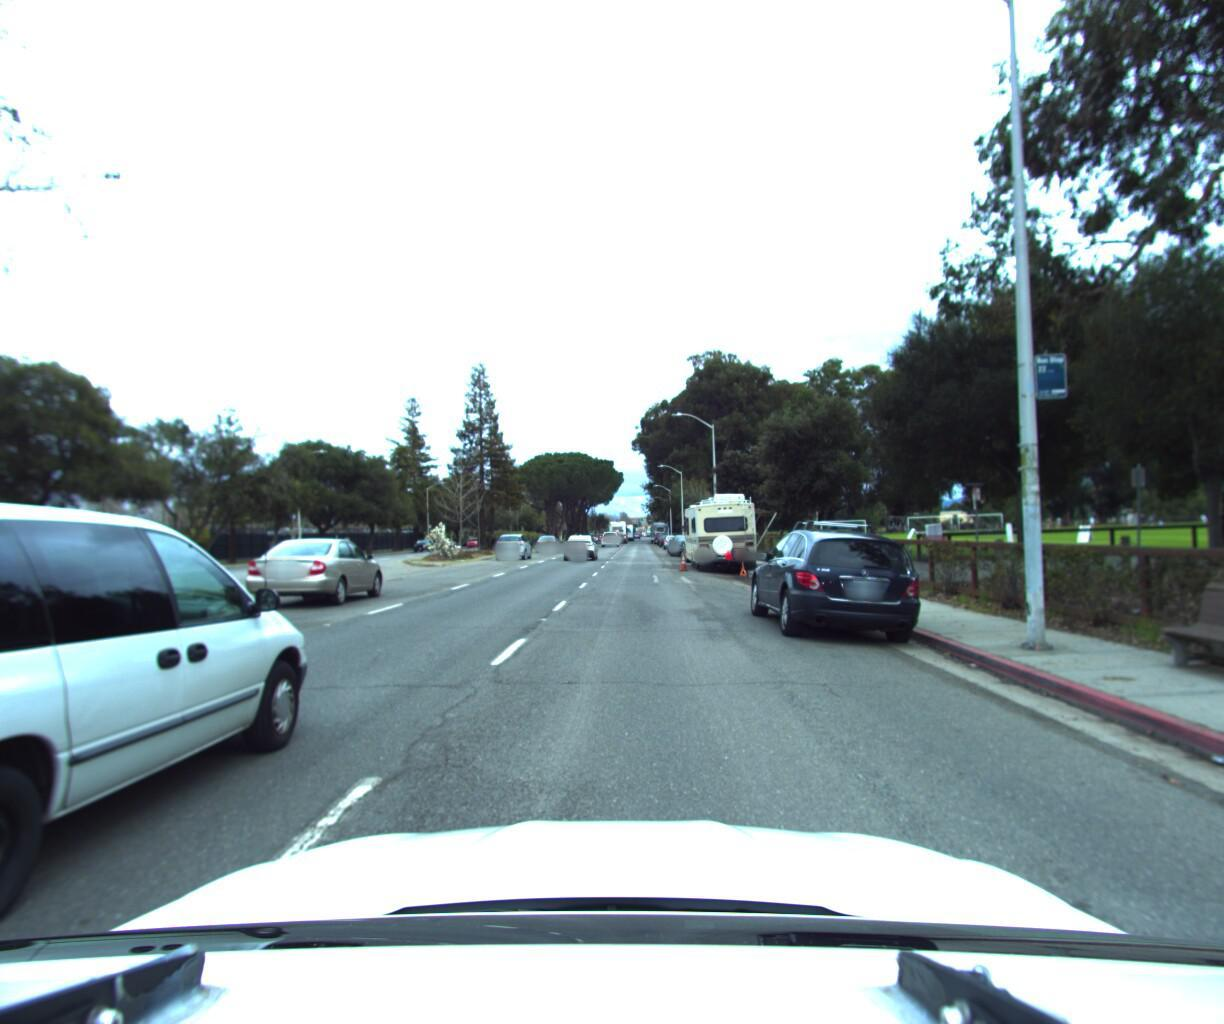car: (743, 503, 948, 647), (238, 531, 396, 613), (491, 528, 535, 559), (561, 530, 600, 559), (670, 527, 703, 552), (533, 527, 562, 549)
other_vehicle: (682, 480, 767, 569)
